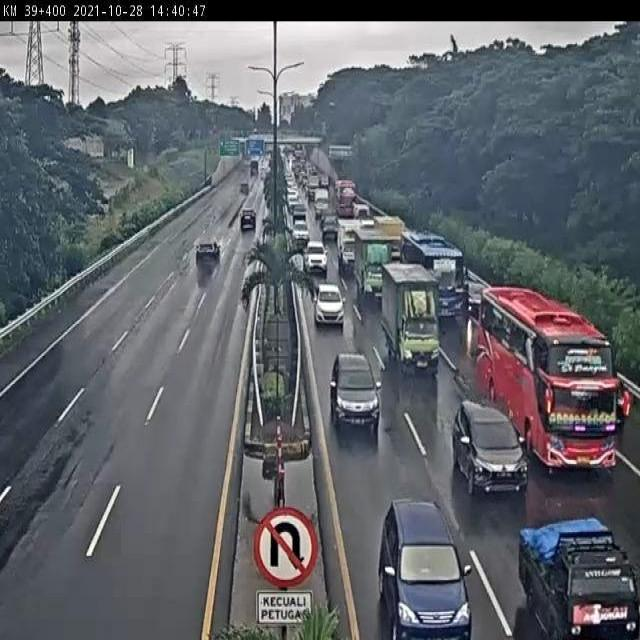big bus: (478, 288, 619, 476), (400, 231, 467, 325)
car: (377, 498, 473, 640), (451, 402, 531, 498), (329, 353, 382, 428), (312, 281, 344, 324), (467, 279, 487, 317)
mid truck: (381, 260, 441, 376), (352, 226, 395, 310), (195, 240, 221, 268)
